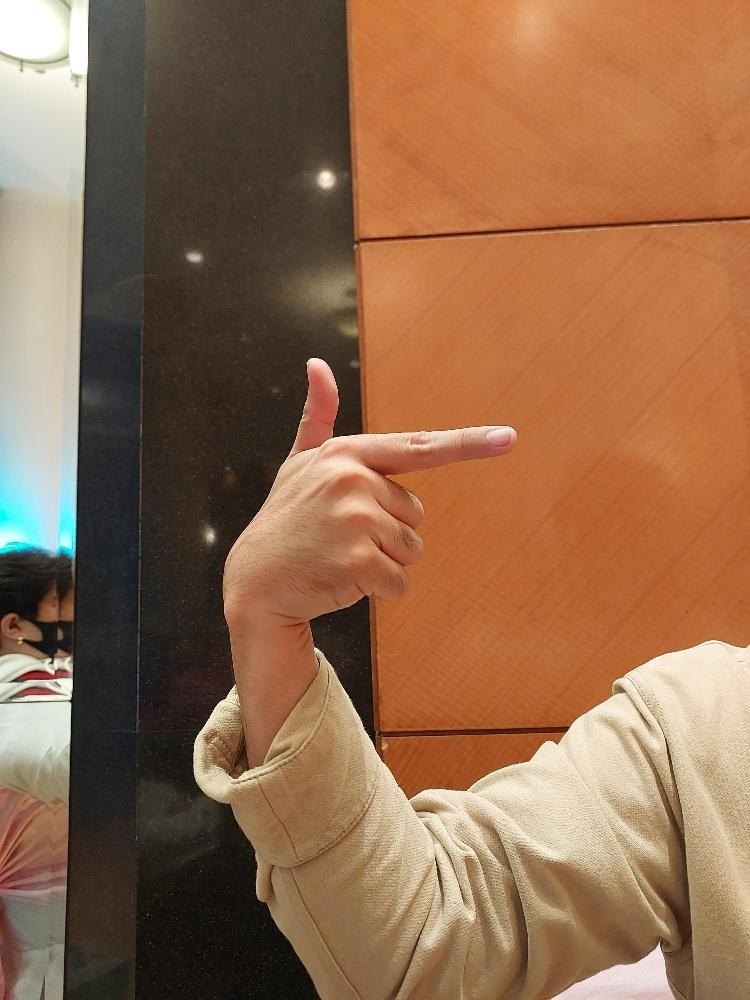g: (219, 353, 517, 621)
